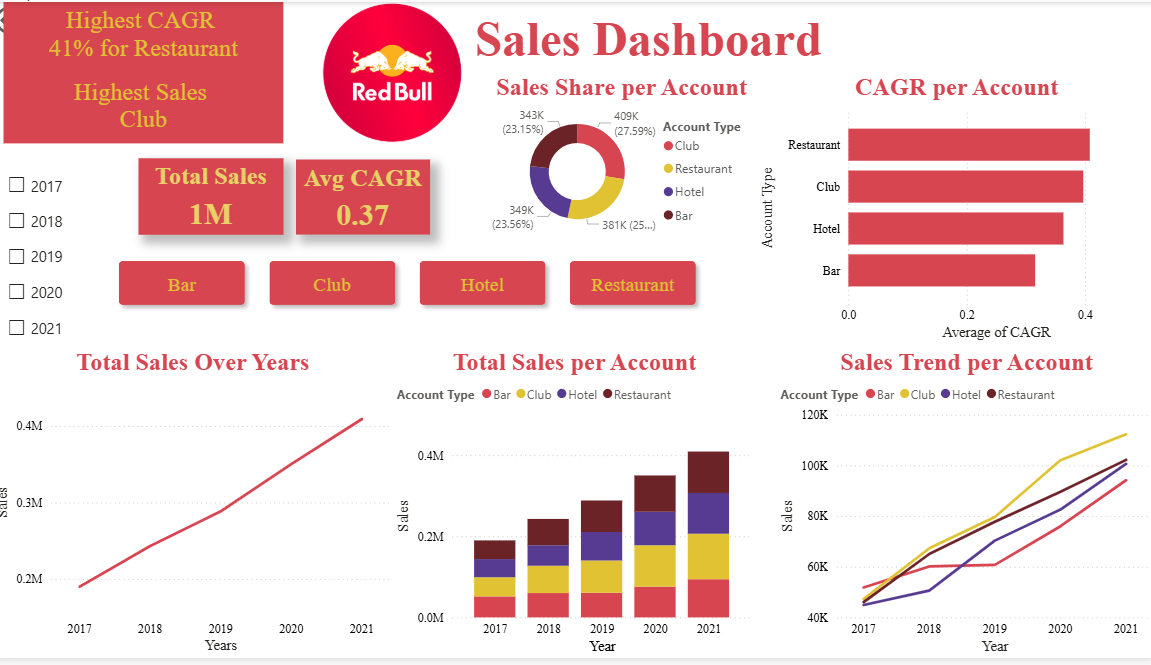

The page's visual inventory and layout, read from the dashboard file:
{"tool":"powerbi","page":{"name":"Page 1","canvas":[1280,720],"ordinal":0},"visuals":[{"type":"textbox","box":[481.6,5.5,480.3,83.7],"z":0},{"type":"card","title":"Total Sales","fields":{"Values":["Sheet1.Sales"]},"box":[161.9,171.5,159.2,83.7],"z":1000},{"type":"card","title":"Avg CAGR","fields":{"Values":["Sheet1.Average CAGR"]},"box":[334.8,172.9,146.8,82.3],"z":2000},{"type":"lineChart","title":"Total Sales Over Years","fields":{"Category":["Rough Work.Year"],"Y":["Sum(Rough Work.Sales)"]},"box":[0,380,443.3,340],"z":3000},{"type":"columnChart","title":"Total Sales per Account","fields":{"Category":["Rough Work.Year"],"Y":["Sum(Rough Work.Sales)"],"Series":["Rough Work.Account Type"]},"box":[440,380,400,340],"z":4000},{"type":"barChart","title":"CAGR per Account","fields":{"Y":["Avg(Sheet1.CAGR)"],"Category":["Sheet1.Account Type"]},"box":[839.8,78.2,440.5,297.8],"z":5000},{"type":"lineChart","title":"Sales Trend per Account","fields":{"Category":["Rough Work.Year"],"Series":["Rough Work.Account Type"],"Y":["Sum(Rough Work.Sales)"]},"box":[861.7,380,418.3,340],"z":6000},{"type":"actionButton","box":[0,0,100,40],"z":7000},{"type":"image","box":[354,0,172.9,155.1],"z":8000},{"type":"listSlicer","fields":{"Values":["Rough Work.Year"]},"box":[13.7,177,296.4,321.1],"z":9000},{"type":"advancedSlicerVisual","fields":{"Values":["Sheet1.Account Type"]},"box":[123.5,267.6,668.3,82.3],"z":10000},{"type":"donutChart","title":"Sales Share per Account","fields":{"Category":["Sheet1.Account Type"],"Y":["Sheet1.Sales"]},"box":[544.8,78.2,295,186.6],"z":11000},{"type":"textbox","box":[13.7,0,307.4,155.1],"z":11001}]}

Visuals, with their boxes in screenshot pixels (x1, y1, x2, y2), scaled from the page's 1280x720 canvas onto the 1151x665 screenshot:
textbox: 433, 5, 865, 82
"Total Sales" card: 146, 158, 289, 236
"Avg CAGR" card: 301, 160, 433, 236
"Total Sales Over Years" lineChart: 0, 351, 399, 664
"Total Sales per Account" columnChart: 396, 351, 755, 664
"CAGR per Account" barChart: 755, 72, 1150, 347
"Sales Trend per Account" lineChart: 775, 351, 1150, 664
actionButton: 0, 0, 90, 37
image: 318, 0, 474, 143
listSlicer - Rough Work.Year: 12, 163, 279, 460
advancedSlicerVisual - Sheet1.Account Type: 111, 247, 712, 323
"Sales Share per Account" donutChart: 490, 72, 755, 245
textbox: 12, 0, 289, 143
